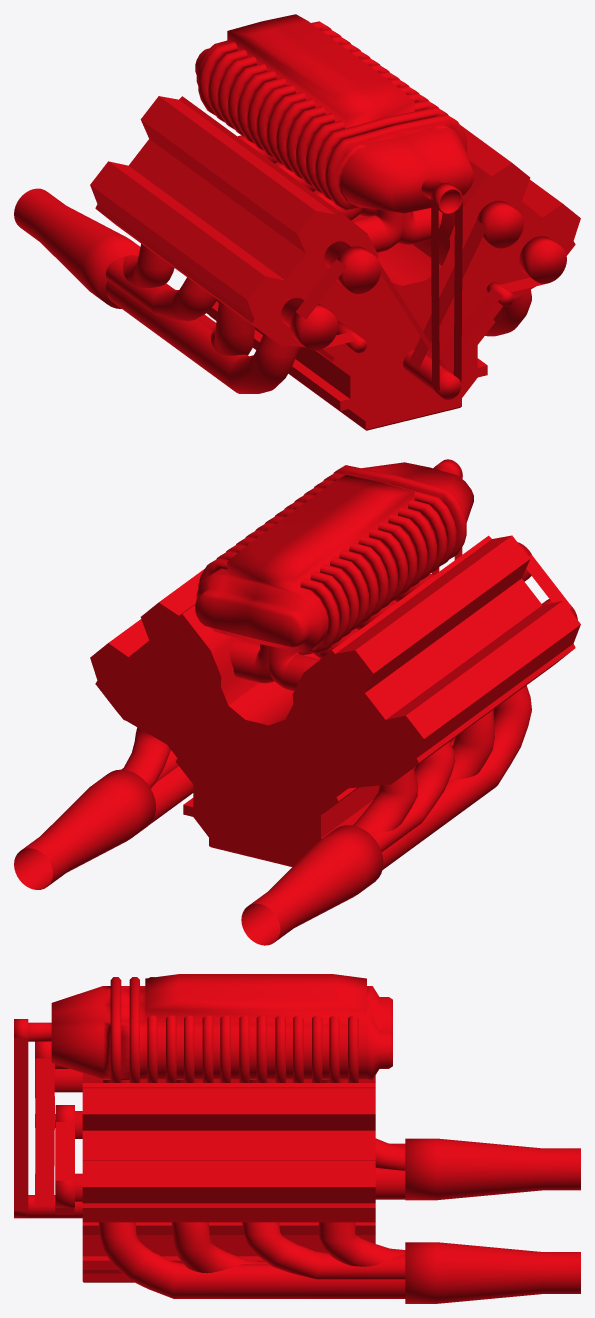
The model's file is engine.glb.
3 views of the same model, one above another, from view 1: azimuth 30°, elevation 25°; view 2: azimuth 150°, elevation 25°; view 3: azimuth 270°, elevation 25° (orthographic). The views are drawn at different scales.
Visible parts, largest first — view 1: part-00, part-11, part-12, part-13, part-10, part-06, part-08, part-07, part-09, part-01; view 2: part-00, part-11, part-13, part-10, part-05, part-06, part-08, part-09, part-07, part-04, part-12, part-02; view 3: part-00, part-11, part-12, part-13, part-01, part-10, part-05, part-03, part-02, part-04, part-07, part-09.
Part boxes in pixels (left/top/right/bottom): part-00: left=90, top=96, right=580, bottom=430; part-11: left=195, top=14, right=473, bottom=213; part-12: left=281, top=177, right=566, bottom=399; part-13: left=198, top=21, right=448, bottom=252; part-10: left=14, top=188, right=140, bottom=308; part-06: left=105, top=280, right=300, bottom=393; part-08: left=105, top=257, right=216, bottom=320; part-07: left=197, top=301, right=254, bottom=355; part-09: left=123, top=243, right=174, bottom=287; part-01: left=485, top=289, right=531, bottom=336; part-00: left=90, top=535, right=580, bottom=866; part-11: left=195, top=462, right=473, bottom=652; part-13: left=198, top=472, right=456, bottom=690; part-10: left=241, top=825, right=383, bottom=945; part-05: left=14, top=769, right=155, bottom=889; part-06: left=382, top=685, right=531, bottom=869; part-08: left=368, top=741, right=455, bottom=851; part-09: left=353, top=768, right=418, bottom=832; part-07: left=449, top=710, right=494, bottom=780; part-04: left=123, top=727, right=170, bottom=788; part-12: left=431, top=459, right=577, bottom=619; part-02: left=149, top=766, right=193, bottom=824; part-00: left=82, top=1073, right=375, bottom=1282; part-11: left=51, top=974, right=392, bottom=1082; part-12: left=14, top=1019, right=82, bottom=1218; part-13: left=103, top=977, right=358, bottom=1082; part-01: left=98, top=1222, right=405, bottom=1298; part-10: left=405, top=1138, right=580, bottom=1200; part-05: left=405, top=1242, right=580, bottom=1303; part-03: left=242, top=1222, right=405, bottom=1279; part-02: left=171, top=1222, right=268, bottom=1273; part-04: left=318, top=1222, right=405, bottom=1266; part-07: left=375, top=1168, right=405, bottom=1199; part-09: left=375, top=1138, right=405, bottom=1170.
Bounding box in the file's own units: 10.01 × 8.42 × 15.76.
